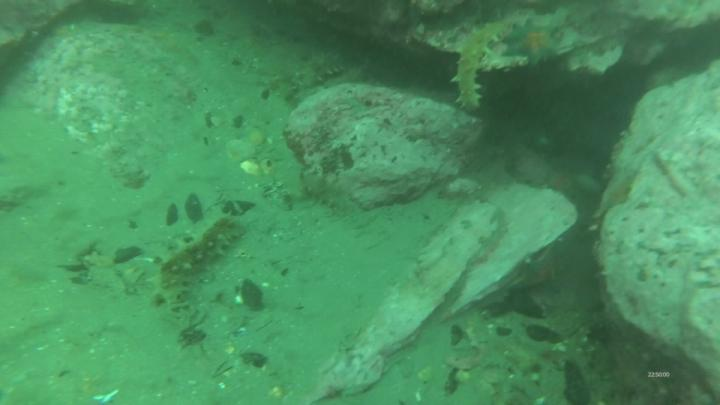holothurian: (151, 213, 245, 321), (453, 20, 510, 115), (294, 49, 352, 90)
starfish: (500, 15, 567, 70)
